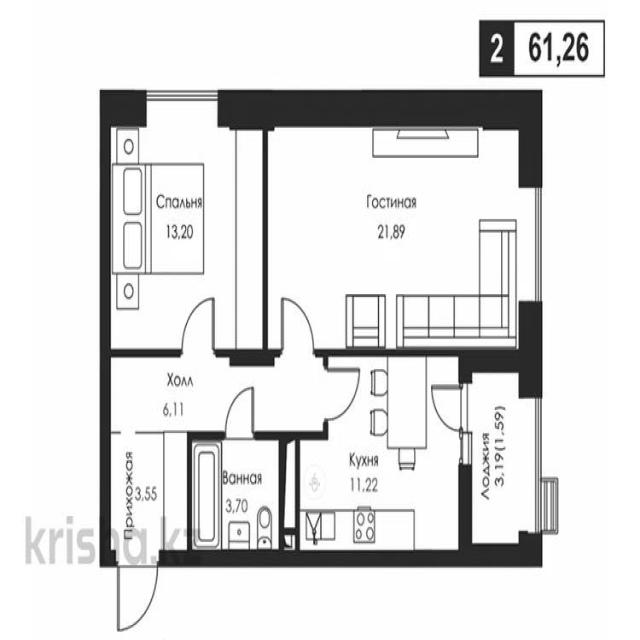balcony: (466, 359, 534, 551)
bathroom: (188, 438, 296, 556)
hallway: (102, 351, 288, 436), (102, 438, 187, 572)
kitchen: (295, 358, 464, 561)
living_room: (268, 100, 539, 352), (110, 102, 264, 350)
